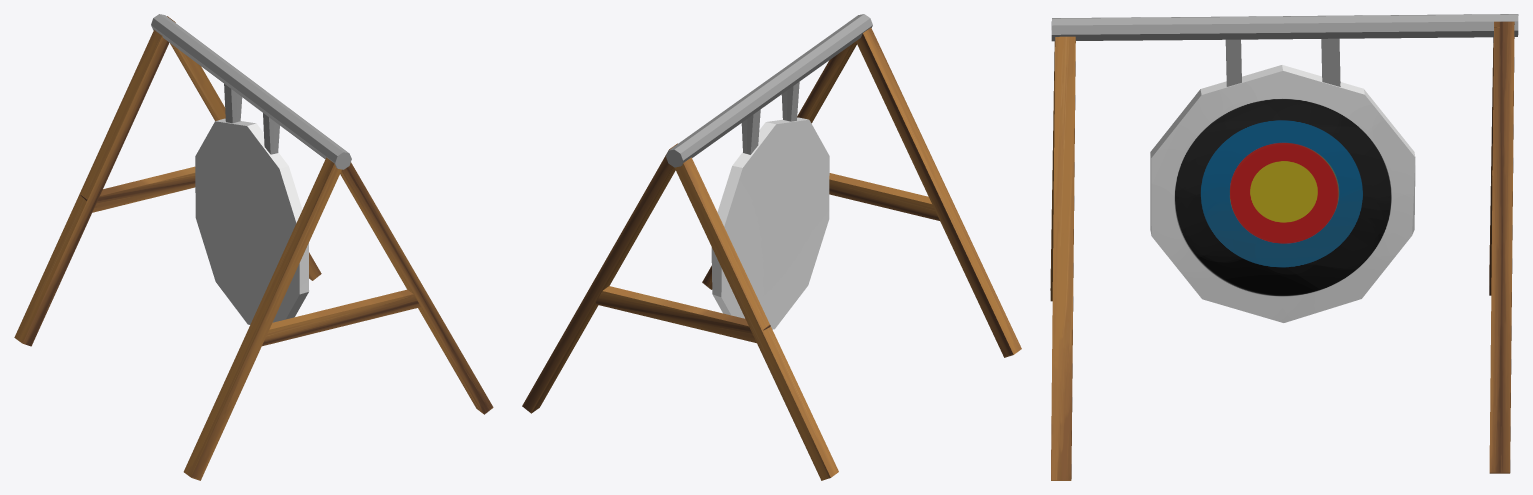
The model's file is TargetV3.fbx.
3 views of the same model, side by side, from view 1: azimuth 30°, elevation 25°; view 2: azimuth 150°, elevation 25°; view 3: azimuth 270°, elevation 25° (orthographic). The views are drawn at different scales.
Visible parts, largest first — view 1: Foundation, Target, Hang; view 2: Foundation, Target, Hang; view 3: Target, Foundation, Hang.
Boxes of the visible parts, x1,y1,x2,y2 form: Foundation: (14, 16, 493, 480); Target: (195, 118, 309, 324); Hang: (151, 14, 351, 169); Foundation: (522, 27, 1021, 480); Target: (711, 117, 829, 329); Hang: (666, 14, 872, 167); Target: (1150, 65, 1415, 322); Foundation: (1050, 21, 1514, 480); Hang: (1051, 14, 1518, 86).
Bounding box in the file's own units: 108 × 102 × 114.
